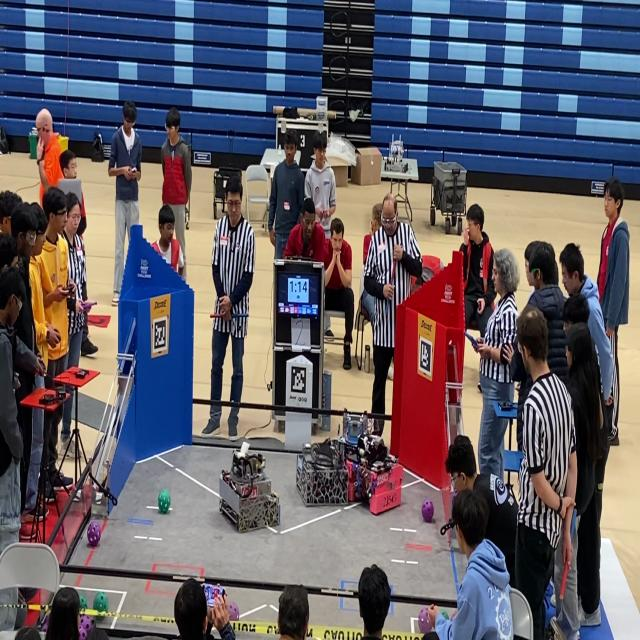artifact_green: (79, 615, 93, 639), (93, 592, 108, 612), (158, 489, 170, 513), (228, 602, 239, 621), (41, 613, 49, 633), (80, 595, 87, 610), (441, 610, 449, 619), (451, 610, 457, 621)
artifact_purple: (418, 607, 431, 634), (87, 521, 100, 547), (422, 499, 434, 522), (79, 615, 93, 634), (228, 602, 239, 621), (41, 614, 49, 632), (79, 627, 88, 639), (440, 610, 449, 619), (451, 610, 457, 621), (452, 490, 457, 498)
